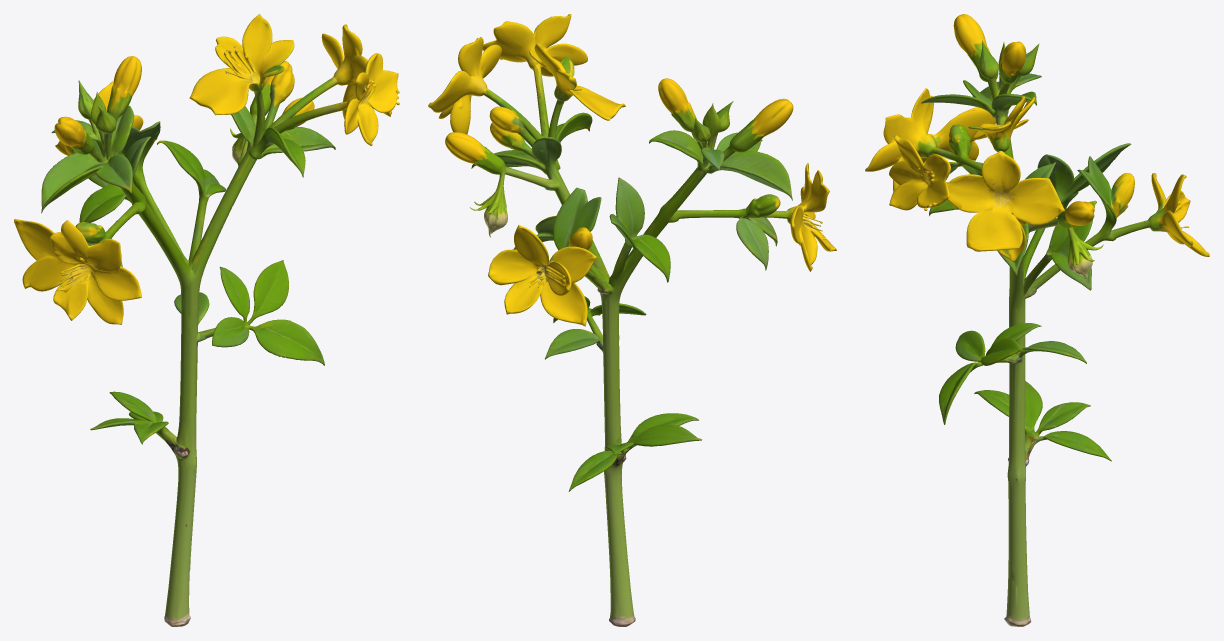
File: yingchunhua.glb
3 renders of one model, left to right at view 1: azimuth 30°, elevation 25°; view 2: azimuth 150°, elevation 25°; view 3: azimuth 270°, elevation 25°, orthographic. The views are drawn at different scales.
Parts seen in each view (by area): view 1: node_0; view 2: node_0; view 3: node_0.
Boxes of the visible parts, box(x1,y1,x2,y2) form: node_0: box(14, 14, 399, 626); node_0: box(428, 14, 836, 626); node_0: box(865, 14, 1209, 626).
Bounding box in the file's own units: 0.7187 × 1.09 × 0.5985.
1 material, 1 textured.
